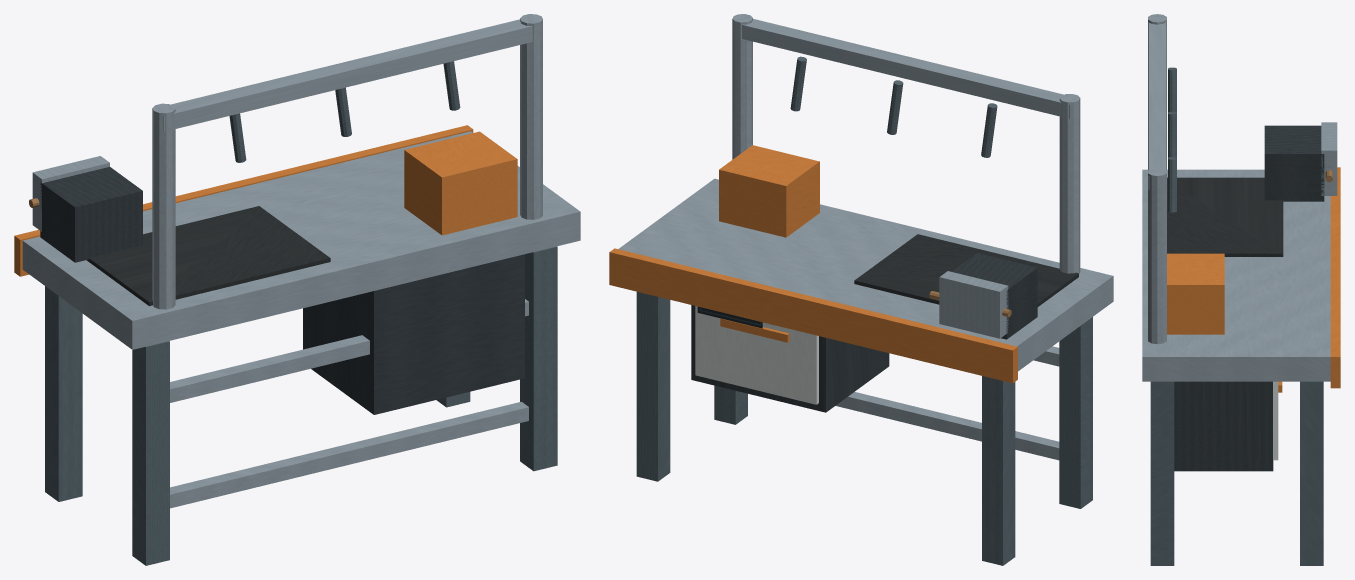
The model's file is exterior_workbench.glb.
3 renders of one model, left to right at view 1: azimuth 30°, elevation 25°; view 2: azimuth 150°, elevation 25°; view 3: azimuth 270°, elevation 25°, orthographic. The views are drawn at different scales.
Parts seen in each view (by area): view 1: work_surface_steel, underbench_cabinet_graphite, frame_legs_metal_dark, underbench_braces_steel, top_work_mat_rubber, tool_caddy_orange, tool_rail_steel, vise_base_graphite, overhead_left_steel, overhead_right_steel, work_surface_edge_orange, hanging_tools_metal_dark (+1 smaller); view 2: work_surface_steel, frame_legs_metal_dark, work_surface_edge_orange, cabinet_door_ceramic, tool_rail_steel, tool_caddy_orange, top_work_mat_rubber, underbench_cabinet_graphite, overhead_left_steel, underbench_braces_steel, vise_jaw_steel, vise_base_graphite (+3 smaller); view 3: work_surface_steel, underbench_cabinet_graphite, frame_legs_metal_dark, top_work_mat_rubber, tool_caddy_orange, vise_base_graphite, overhead_right_steel, tool_rail_steel, work_surface_edge_orange, hanging_tools_metal_dark, vise_jaw_steel, overhead_left_steel (+1 smaller).
Part boxes in pixels (box(x1,y1,x2,y2)): work_surface_steel: box(22, 131, 580, 349); underbench_cabinet_graphite: box(303, 254, 524, 414); frame_legs_metal_dark: box(45, 246, 557, 565); underbench_braces_steel: box(170, 299, 528, 508); top_work_mat_rubber: box(86, 206, 330, 306); tool_caddy_orange: box(404, 131, 517, 235); tool_rail_steel: box(163, 19, 541, 131); vise_base_graphite: box(40, 167, 142, 262); overhead_left_steel: box(152, 103, 175, 309); overhead_right_steel: box(520, 14, 542, 219); work_surface_edge_orange: box(14, 125, 473, 276); hanging_tools_metal_dark: box(229, 61, 460, 162); work_surface_steel: box(618, 178, 1113, 371); frame_legs_metal_dark: box(636, 291, 1092, 565); work_surface_edge_orange: box(609, 248, 1017, 383); cabinet_door_ceramic: box(695, 306, 818, 404); tool_rail_steel: box(733, 19, 1070, 118); tool_caddy_orange: box(719, 145, 819, 237); top_work_mat_rubber: box(854, 234, 1078, 306); underbench_cabinet_graphite: box(691, 305, 889, 412); overhead_left_steel: box(1059, 94, 1080, 273); underbench_braces_steel: box(835, 346, 1059, 460); vise_jaw_steel: box(939, 271, 1008, 338); vise_base_graphite: box(951, 253, 1037, 339); work_surface_steel: box(1142, 169, 1330, 381); underbench_cabinet_graphite: box(1174, 381, 1273, 471); frame_legs_metal_dark: box(1150, 381, 1323, 565); top_work_mat_rubber: box(1167, 177, 1283, 256); tool_caddy_orange: box(1167, 253, 1224, 334); vise_base_graphite: box(1264, 125, 1324, 201); overhead_right_steel: box(1148, 167, 1166, 344); tool_rail_steel: box(1148, 22, 1165, 189); work_surface_edge_orange: box(1330, 167, 1340, 388); hanging_tools_metal_dark: box(1168, 67, 1176, 212); vise_jaw_steel: box(1321, 122, 1337, 195); overhead_left_steel: box(1148, 14, 1166, 170).
Bounding box in the file's own units: 1.8 × 1.7 × 0.795.
Materials: 8 (8 with a texture image).
